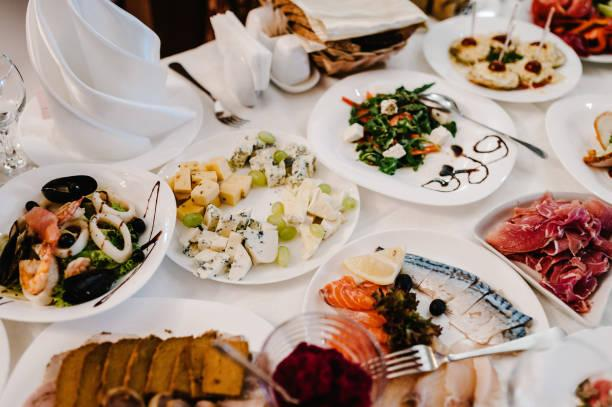Braised Crucian Carp: (155, 129, 358, 282), (1, 296, 282, 405), (307, 69, 518, 207), (1, 162, 178, 319), (422, 13, 582, 104)
